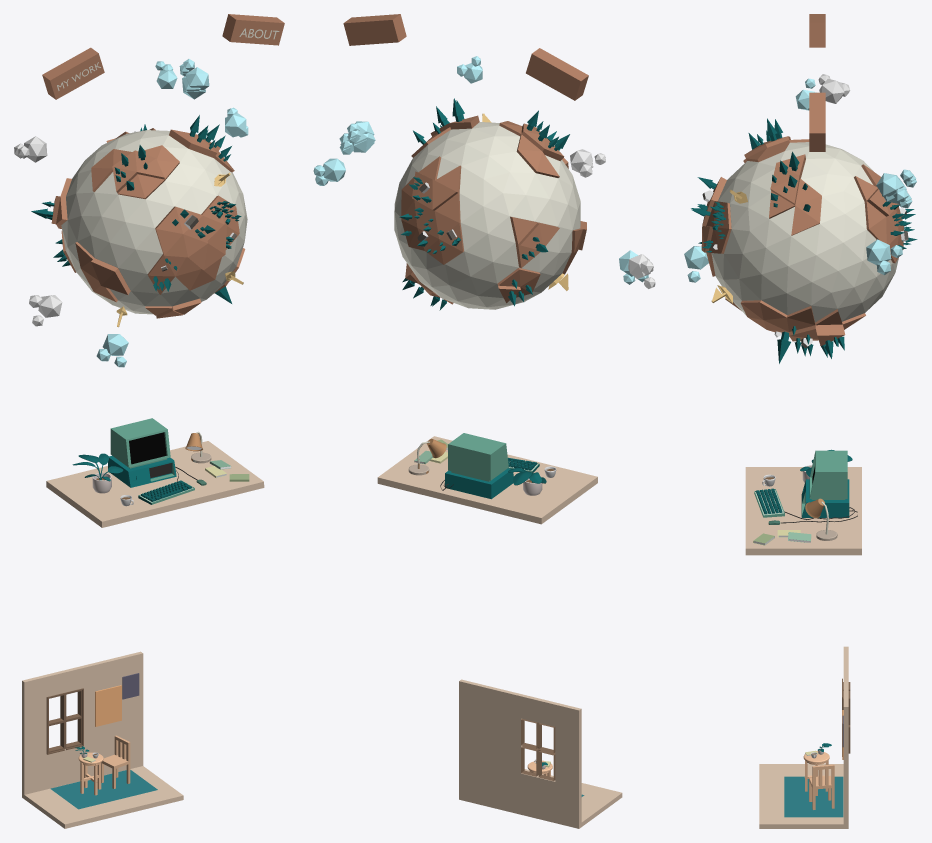
File: globetest12.glb
3 views of the same model, side by side, from view 1: azimuth 30°, elevation 25°; view 2: azimuth 150°, elevation 25°; view 3: azimuth 270°, elevation 25° (orthographic). The views are drawn at different scales.
Visible parts, largest first — view 1: Icosphere.001, t6, Icosphere, c10, c11, Plane.079, t8, Cube, Cube.001, c9, t3, t1 (+6 smaller); view 2: Icosphere.001, t6, Icosphere, c10, c11, Plane.079, Cube, Cube.001, c9, Icosphere.020, Icosphere.003, c13; view 3: Icosphere.001, Icosphere, c10, t6, Plane.079, t8, c11, Cube.001, Icosphere.020, c9, t1, Icosphere.003 (+5 smaller).
Boxes of the visible parts, x1=… form: Icosphere.001: x1=61, y1=130, x2=247, y2=314; t6: x1=22, y1=651, x2=183, y2=828; Icosphere: x1=51, y1=128, x2=245, y2=318; c10: x1=46, y1=441, x2=264, y2=527; c11: x1=110, y1=418, x2=170, y2=468; Plane.079: x1=31, y1=115, x2=241, y2=303; t8: x1=50, y1=770, x2=157, y2=809; Cube: x1=42, y1=47, x2=104, y2=99; Cube.001: x1=222, y1=14, x2=284, y2=45; c9: x1=108, y1=455, x2=176, y2=487; t3: x1=95, y1=685, x2=121, y2=726; t1: x1=101, y1=735, x2=130, y2=788; Icosphere.001: x1=394, y1=122, x2=580, y2=309; t6: x1=459, y1=679, x2=622, y2=828; Icosphere: x1=401, y1=115, x2=586, y2=304; c10: x1=377, y1=436, x2=597, y2=524; c11: x1=448, y1=433, x2=508, y2=481; Plane.079: x1=399, y1=98, x2=569, y2=310; Cube: x1=526, y1=48, x2=588, y2=100; Cube.001: x1=343, y1=14, x2=406, y2=45; c9: x1=445, y1=468, x2=513, y2=499; Icosphere.020: x1=339, y1=121, x2=375, y2=154; Icosphere.003: x1=313, y1=158, x2=345, y2=185; c13: x1=508, y1=467, x2=546, y2=495; Icosphere.001: x1=711, y1=142, x2=898, y2=322; Icosphere: x1=701, y1=136, x2=903, y2=345; c10: x1=745, y1=467, x2=861, y2=555; t6: x1=759, y1=646, x2=850, y2=828; Plane.079: x1=691, y1=118, x2=917, y2=363; t8: x1=784, y1=776, x2=843, y2=817; c11: x1=809, y1=450, x2=847, y2=499; Cube.001: x1=809, y1=92, x2=825, y2=151; Icosphere.020: x1=876, y1=169, x2=916, y2=208; c9: x1=801, y1=479, x2=849, y2=517; t1: x1=809, y1=764, x2=834, y2=809; Icosphere.003: x1=866, y1=239, x2=902, y2=275.
Bounding box in the file's own units: 3.49 × 8.97 × 2.45.
